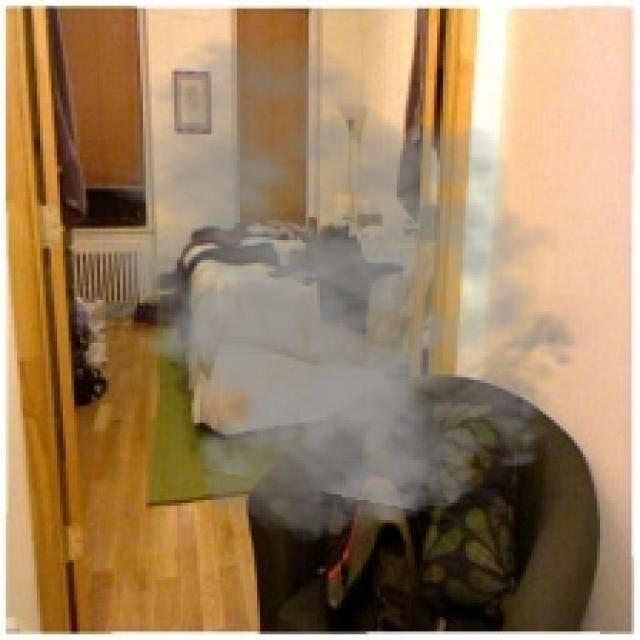smoke: (63, 31, 600, 548)
